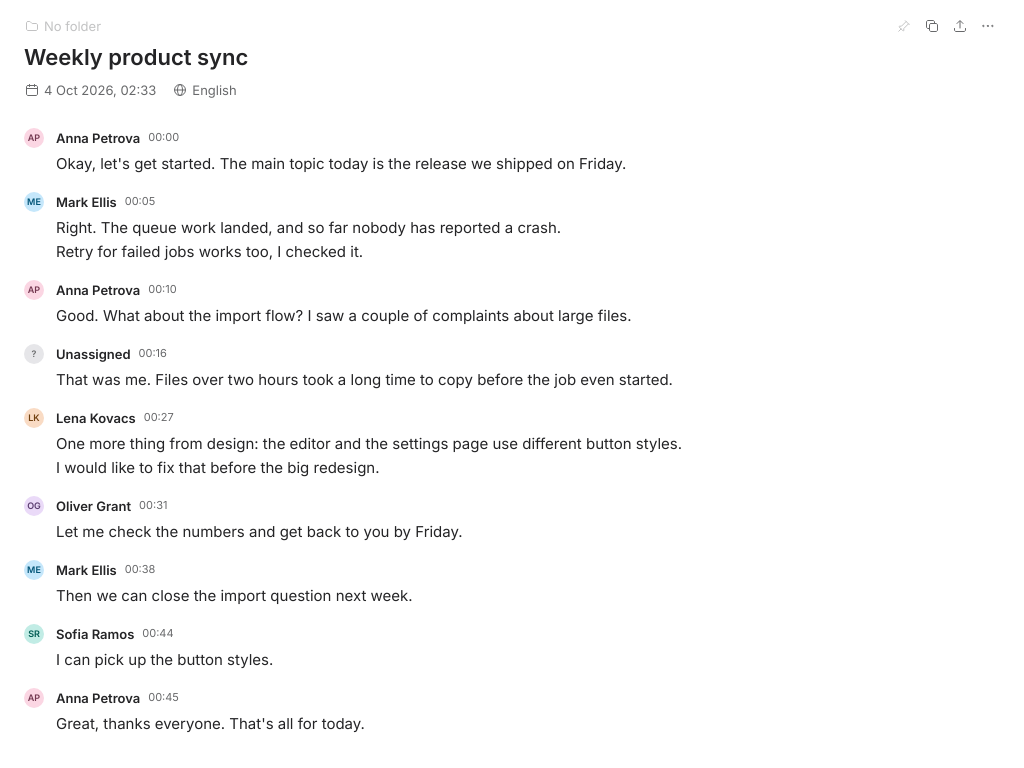
Test: content › Unassigned segments show as such and open the menu too
The width and height of the screenshot is (1024, 768).
Click the button "? Unassigned". click: {"x": 77, "y": 354}
box: [24,344,131,364]
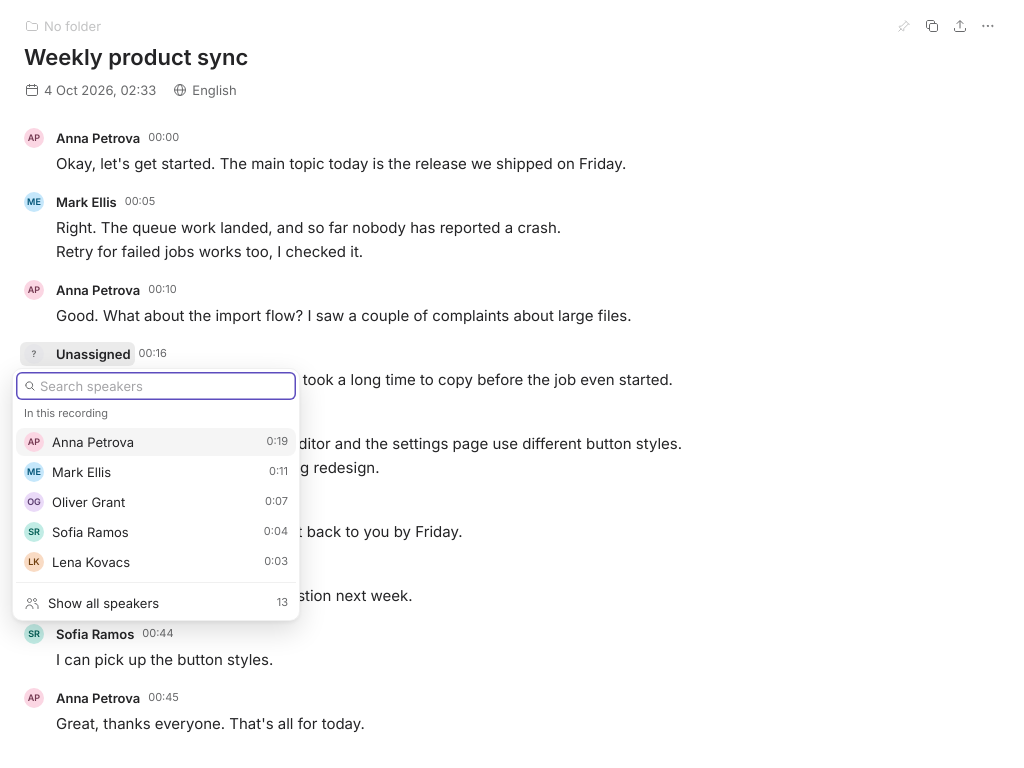
Result: the dialog named "Change speaker" is shown at [12,368,300,621]
